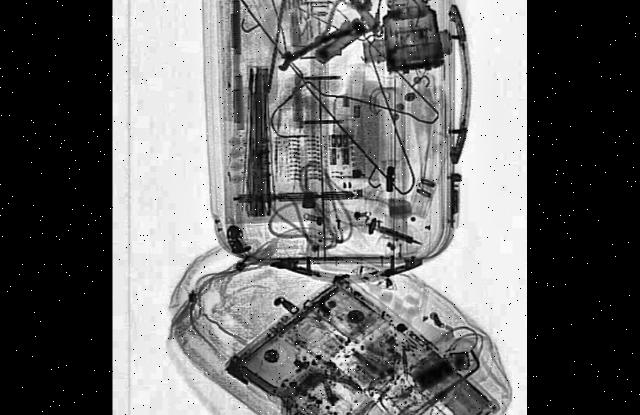Wrench: (276, 12, 365, 73)
